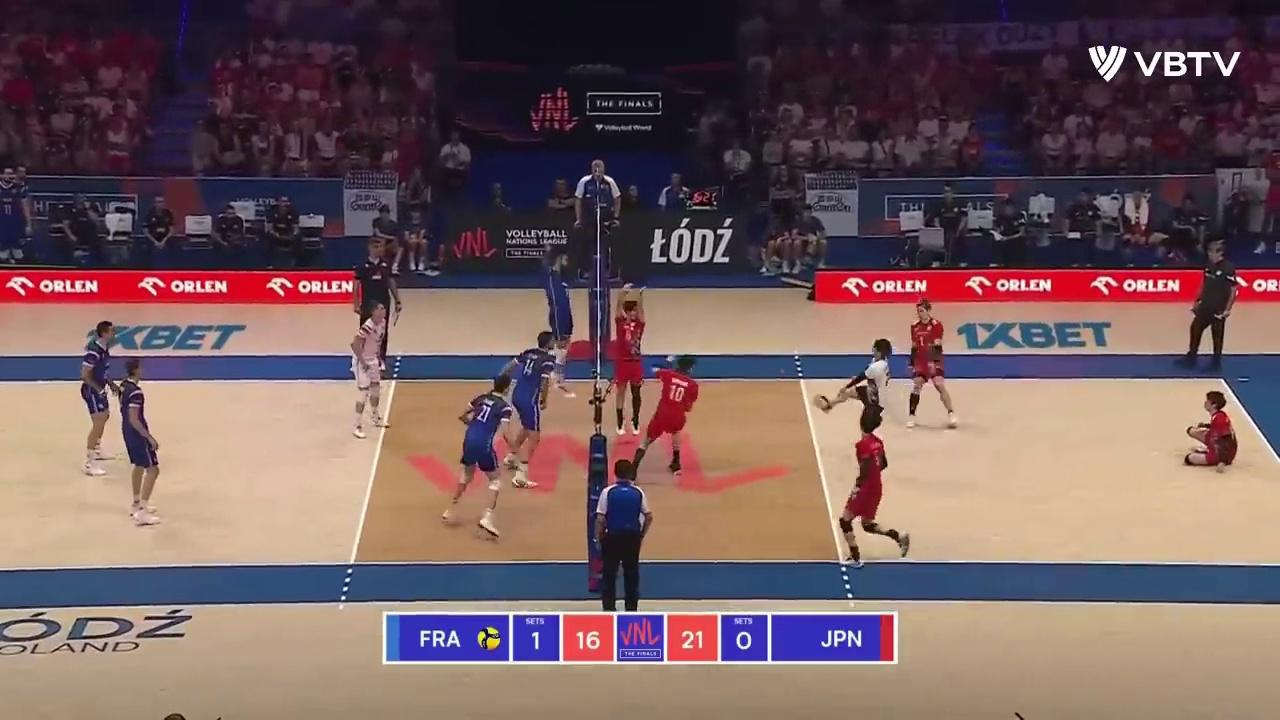ball: (813, 393, 831, 410)
